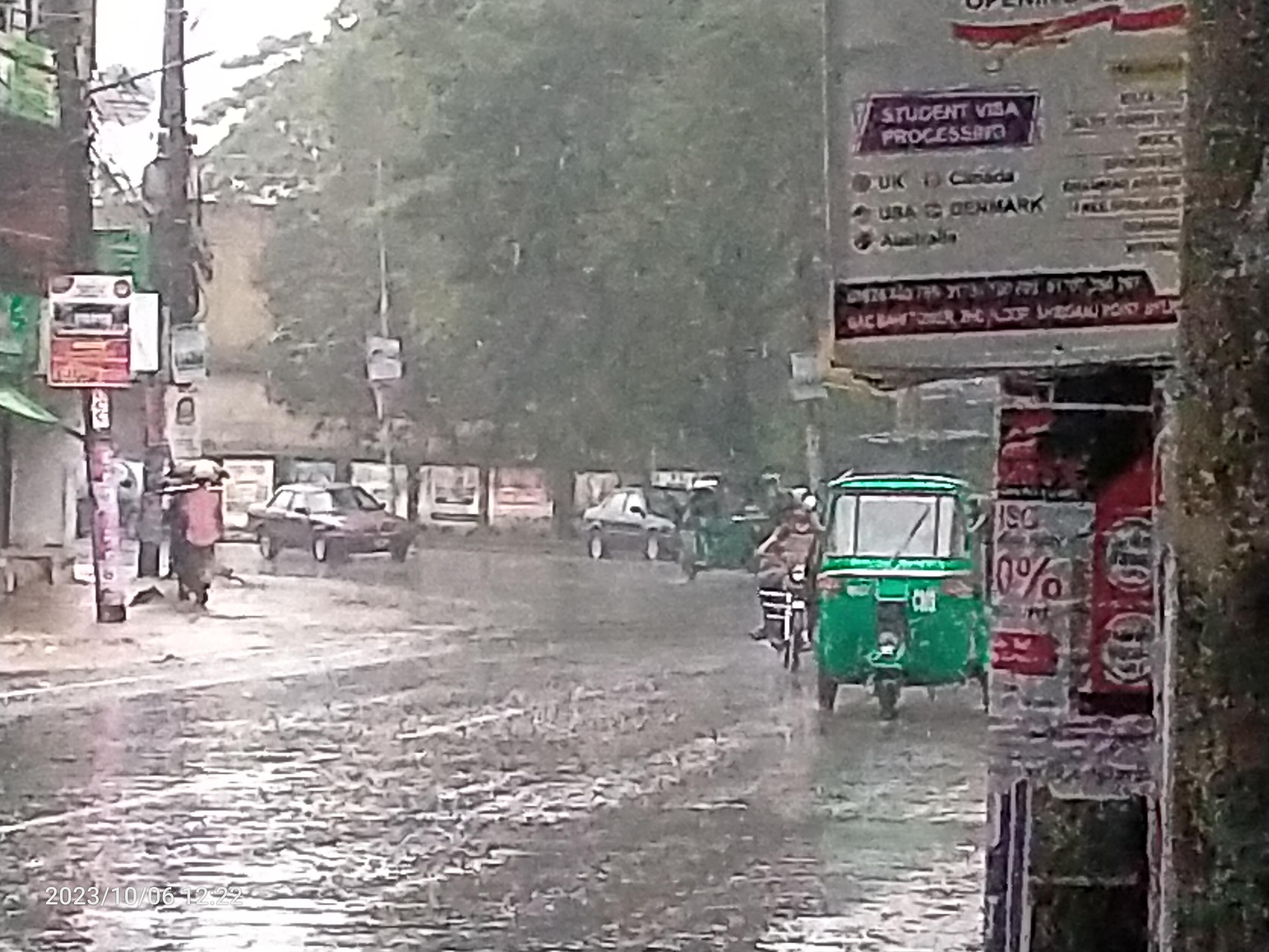Bike: (751, 486, 816, 672)
Car: (224, 453, 438, 577), (577, 459, 683, 563)
